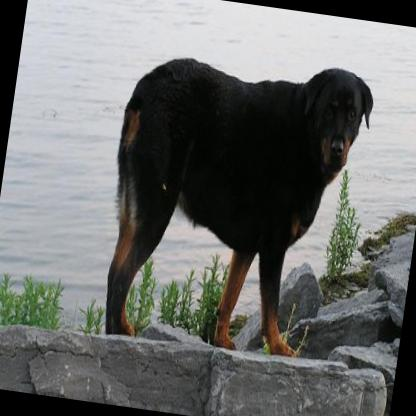Rottweiler: (93, 38, 376, 360)
